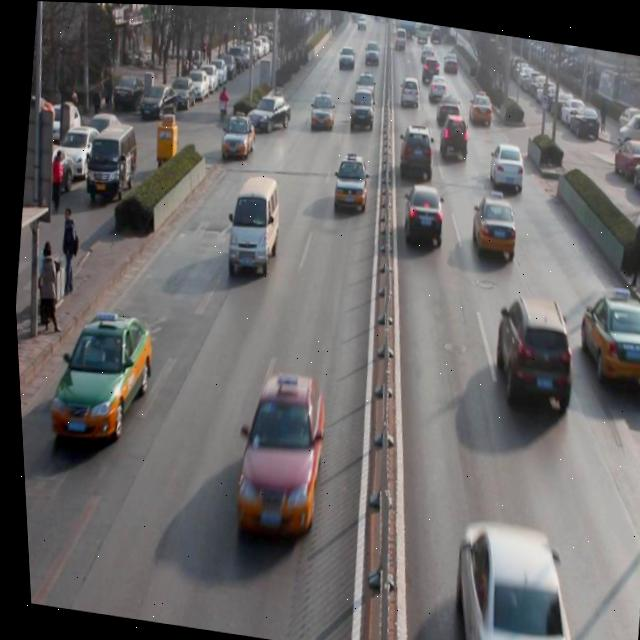car: (220, 369, 330, 543), (436, 510, 583, 640), (38, 311, 156, 454), (484, 288, 581, 417), (569, 275, 640, 388), (465, 187, 519, 262), (395, 178, 445, 251), (329, 149, 370, 213), (395, 124, 436, 178), (485, 137, 526, 188), (216, 112, 257, 163), (244, 92, 292, 133), (436, 106, 470, 158), (345, 83, 377, 132), (305, 92, 337, 132), (432, 85, 460, 123), (466, 87, 495, 123), (397, 71, 420, 106), (352, 69, 377, 99)
truck: (218, 172, 285, 282)
